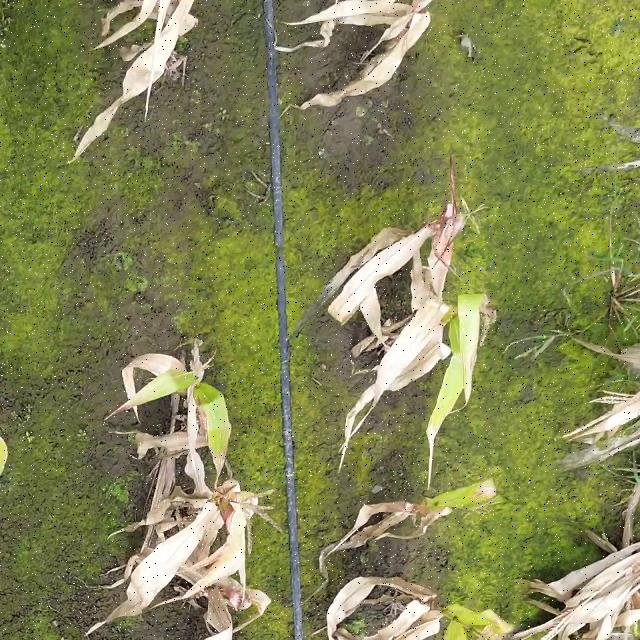northern-leaf-blight: (405, 476, 524, 523), (187, 384, 241, 476)
